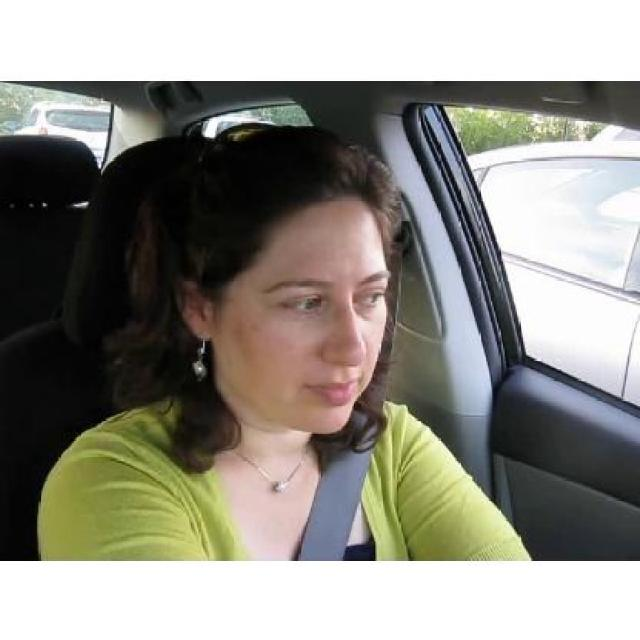attentif: (168, 123, 389, 434)
